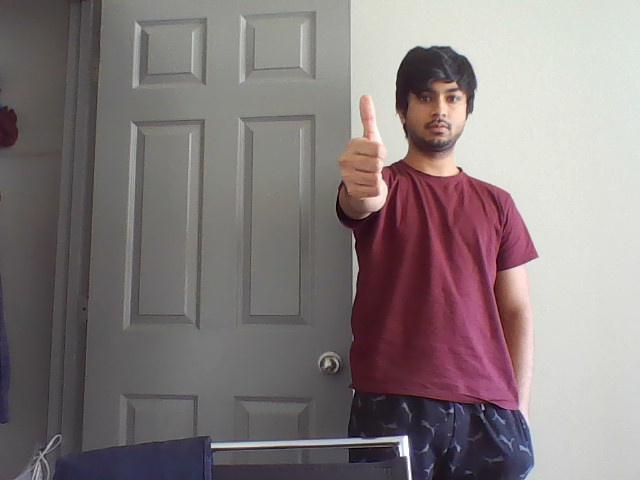confirm: (336, 88, 389, 205)
